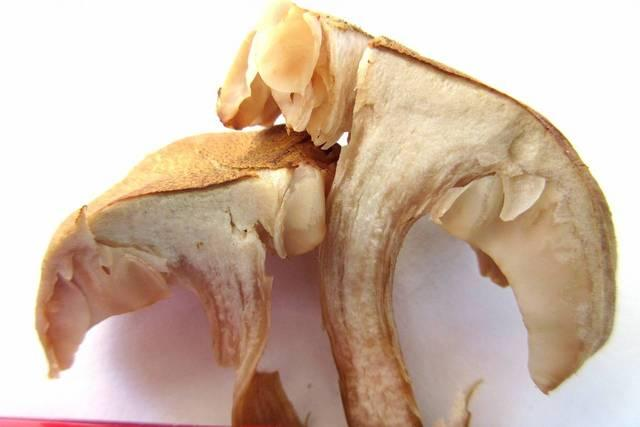edible_mushroom: (214, 0, 619, 426), (33, 122, 339, 425)
